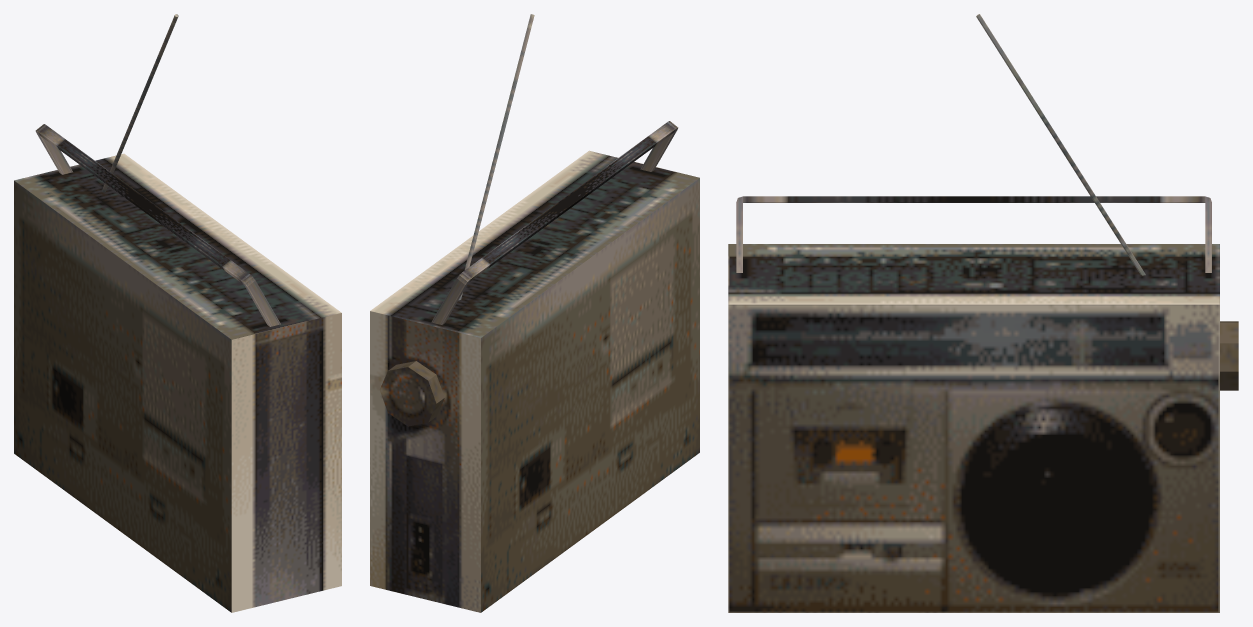
File: radio.fbx
3 views of the same model, side by side, from view 1: azimuth 30°, elevation 25°; view 2: azimuth 150°, elevation 25°; view 3: azimuth 270°, elevation 25° (orthographic). The views are drawn at different scales.
Visible parts, largest first — view 1: Radio, Handle, Antenna; view 2: Radio, Handle, Antenna; view 3: Radio, Handle, Antenna.
Part boxes in pixels (bbox=[...]): Radio: bbox=[14, 153, 341, 612]; Handle: bbox=[35, 124, 280, 326]; Antenna: bbox=[101, 14, 178, 192]; Radio: bbox=[370, 150, 699, 612]; Handle: bbox=[431, 121, 678, 324]; Antenna: bbox=[458, 14, 534, 300]; Radio: bbox=[728, 244, 1238, 612]; Handle: bbox=[736, 196, 1211, 272]; Antenna: bbox=[976, 14, 1145, 275].
Size of the model in its own units: 9.5 by 41.48 by 33.74.
Materials: 1 (1 with a texture image).
